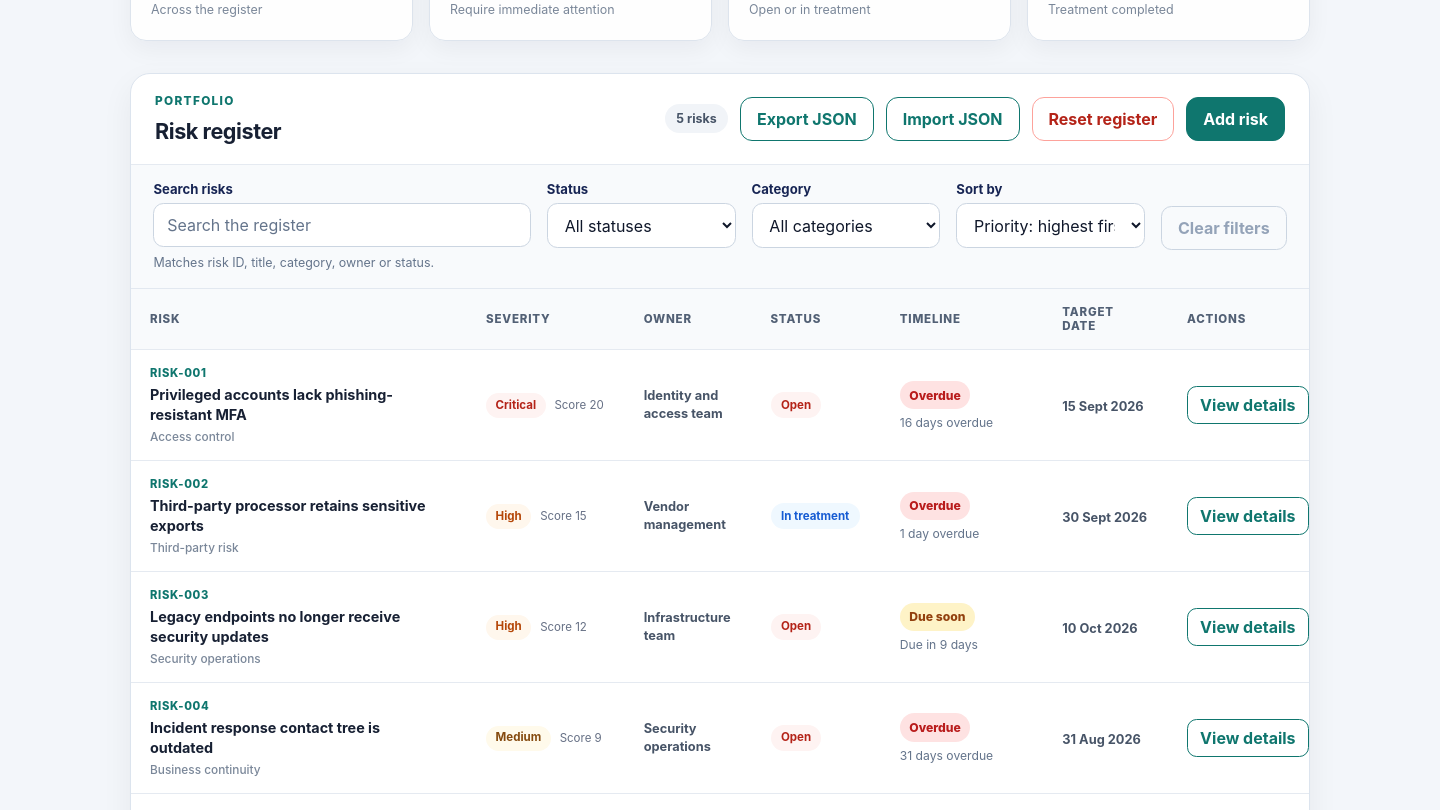
Test: App risk editing › edits, recalculates and persists a risk immutably
(page scrolled)
Click the button "View details" in the row of "Identity and access team".
click(1248, 405)  # box 1187,386 -> 1309,424
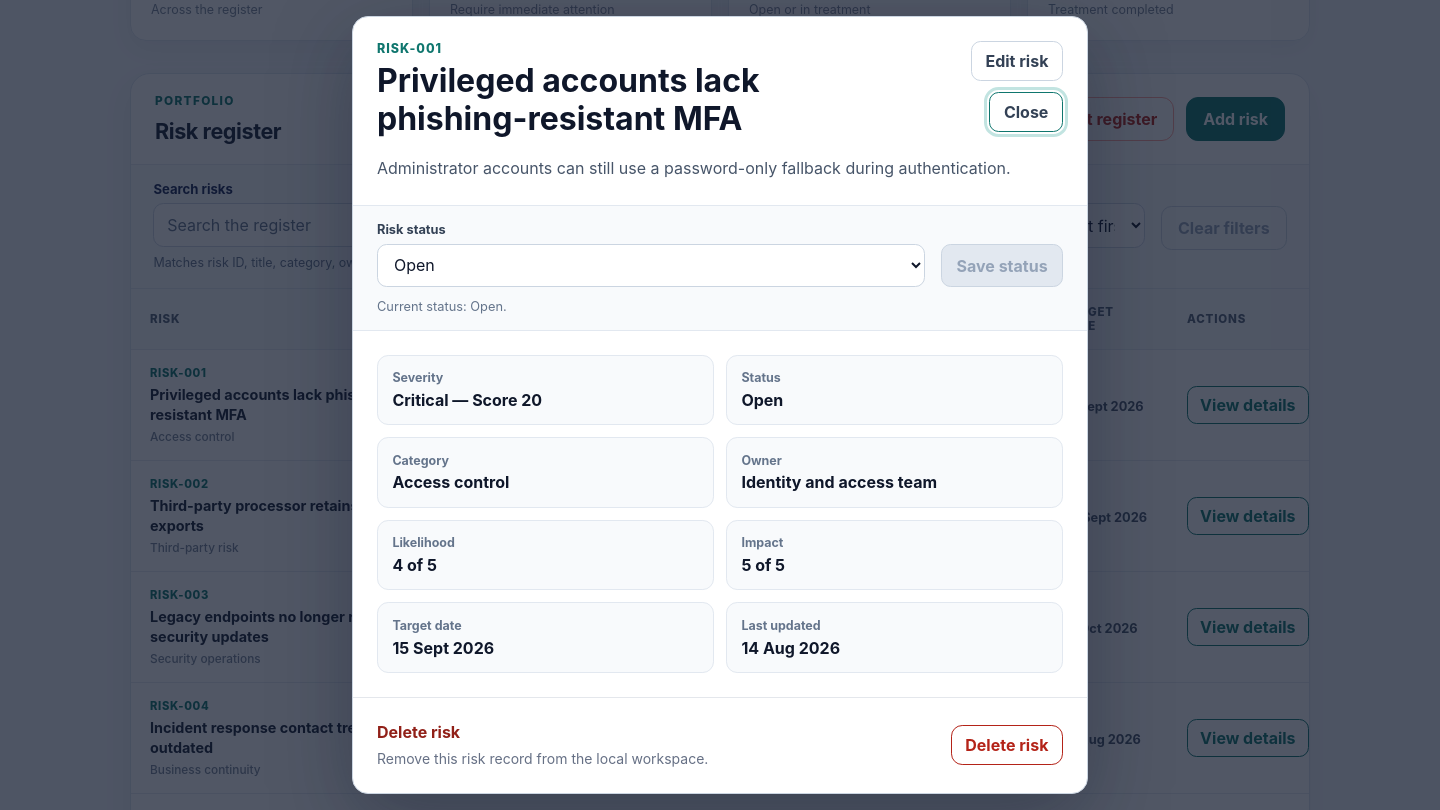
Click the button "Edit risk".
click(1017, 61)  # box 971,41 -> 1063,81
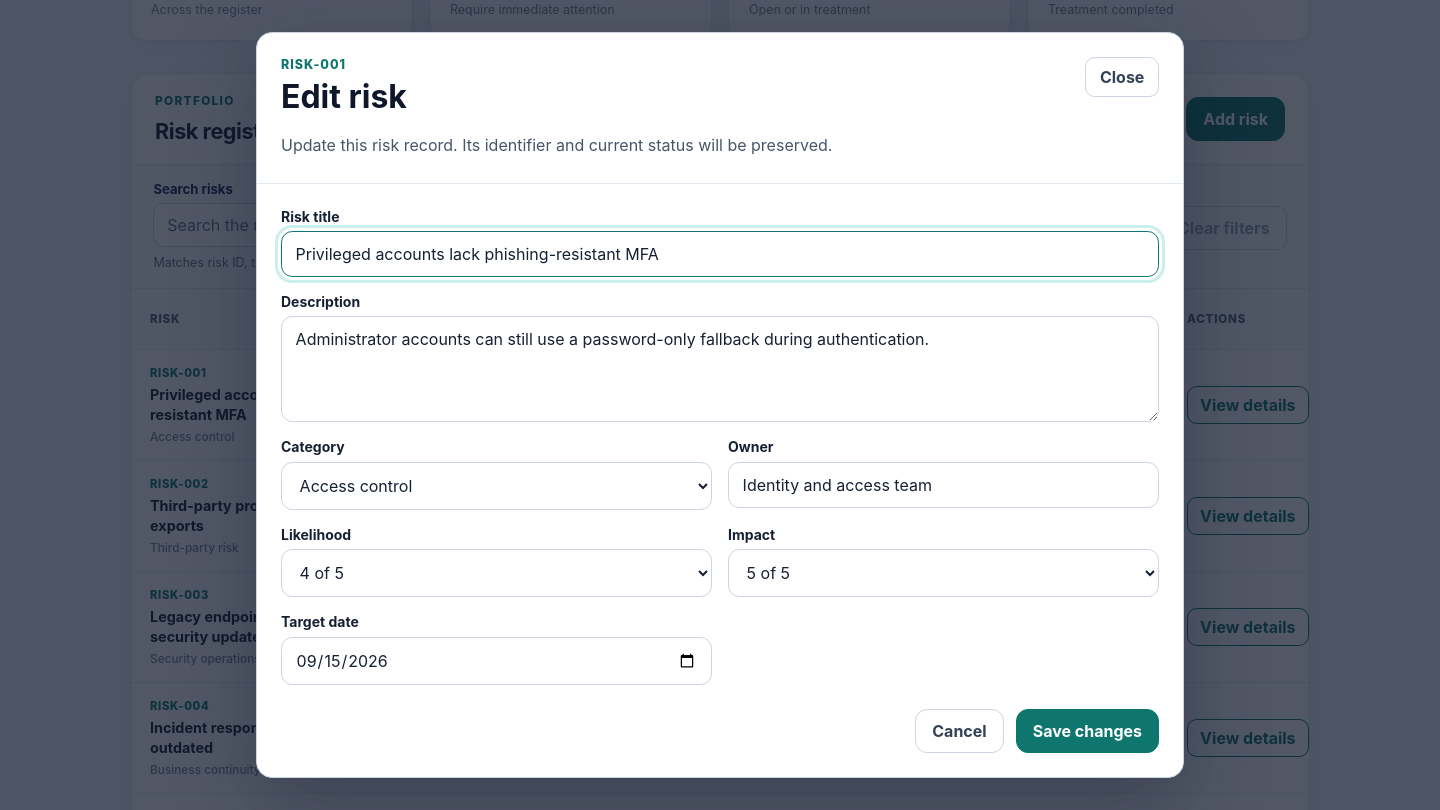
Expected: the field labelled "Risk title" holds "Privileged accounts lack phishing-resistant MFA"
Replace the text in the field labelled "Risk title" with "Privileged accounts require stronger authentication" at [720, 254], box 281,231 -> 1159,277
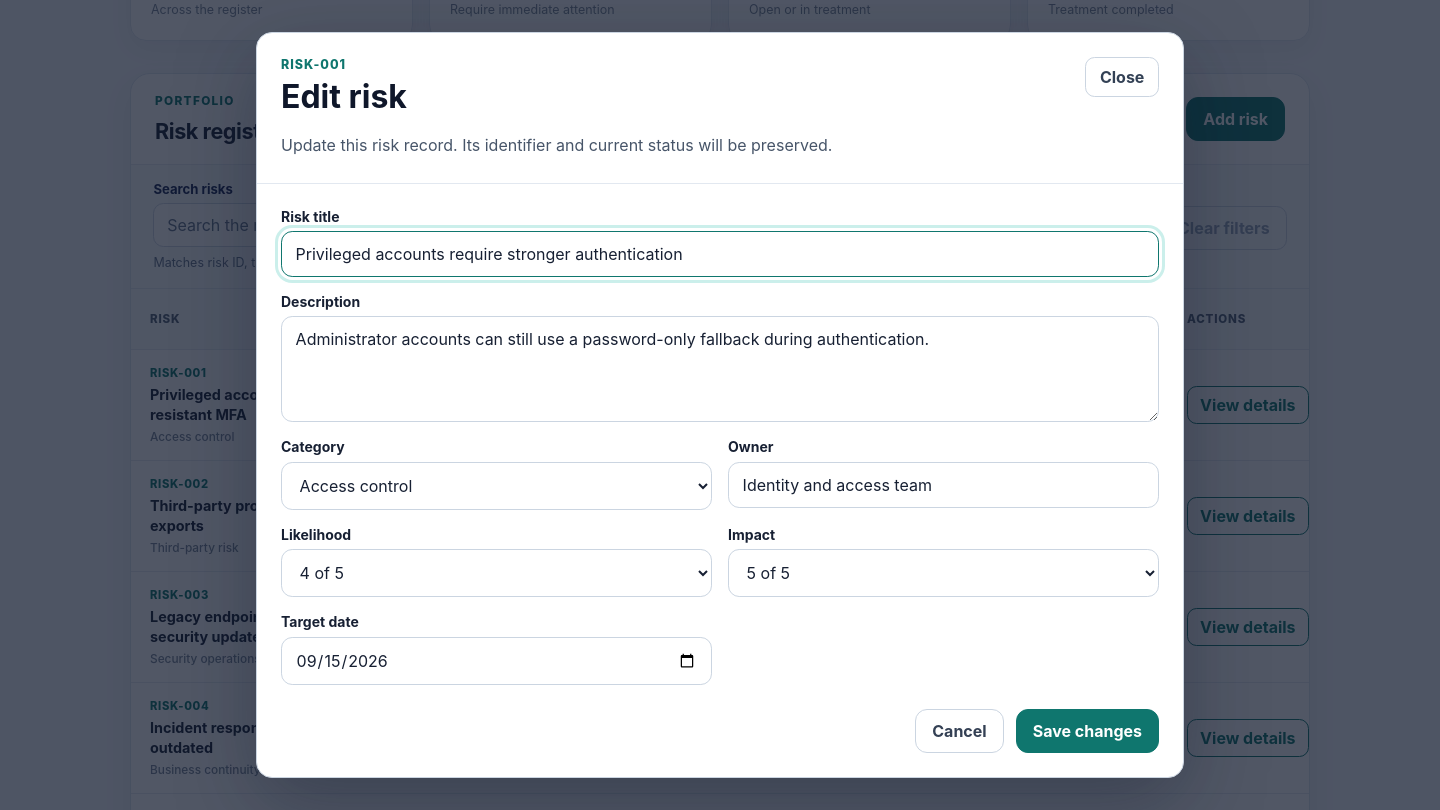
Replace the text in the field labelled "Owner" with "Identity governance team" at [944, 485], box 728,462 -> 1159,508
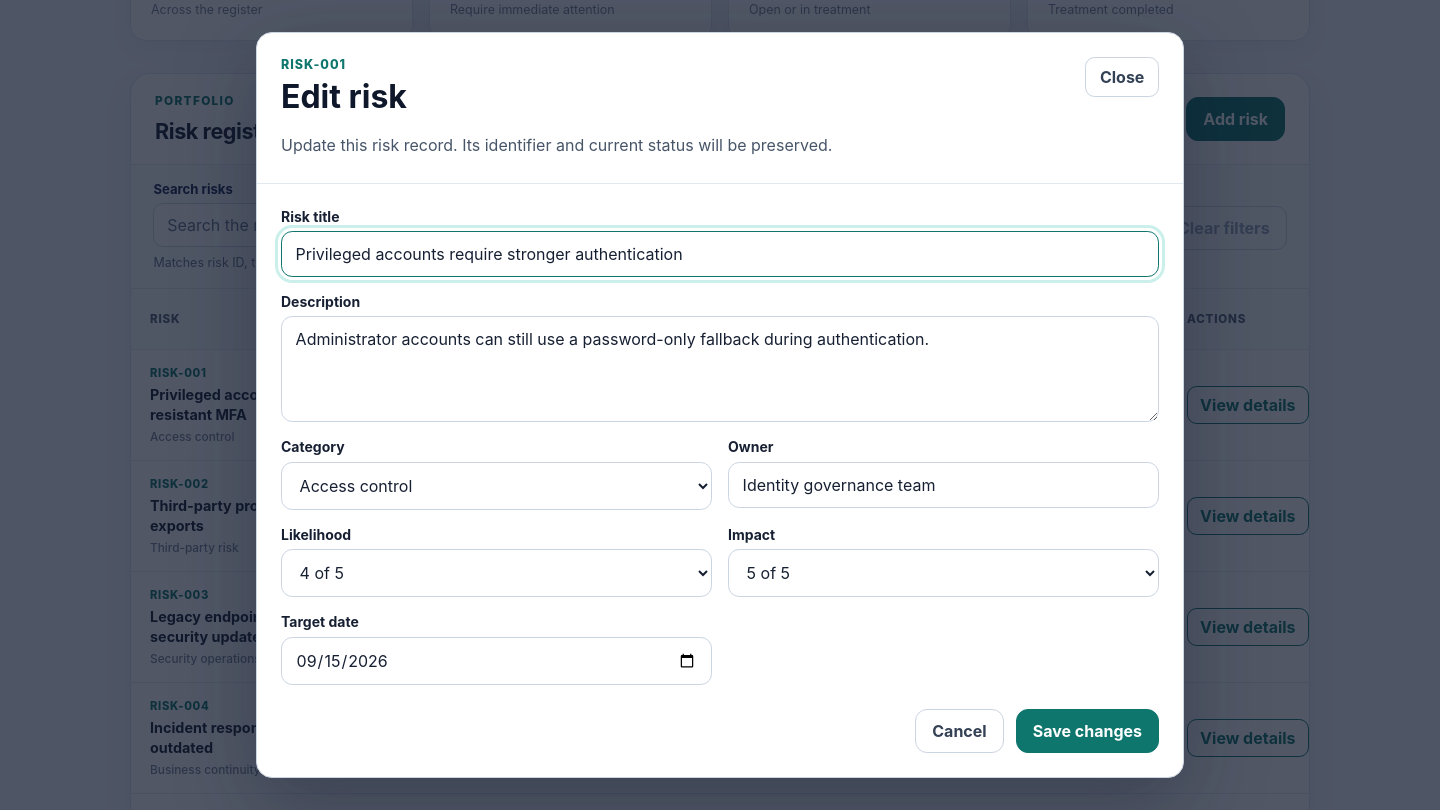
Select "3 of 5" in the dropdown labelled "Likelihood" at [496, 573], box 281,549 -> 712,597
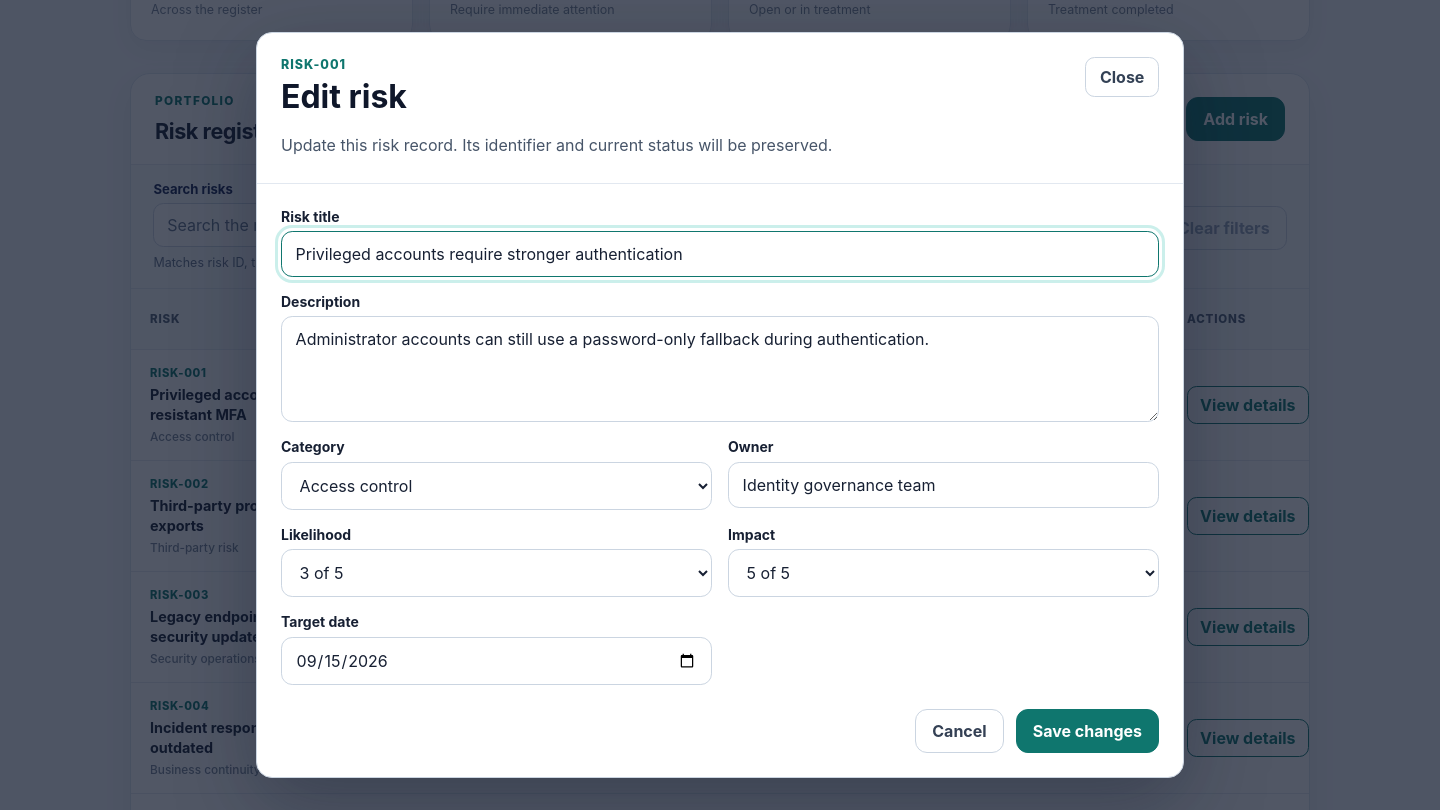
Click the button "Save changes".
click(1087, 731)  # box 1016,709 -> 1159,753
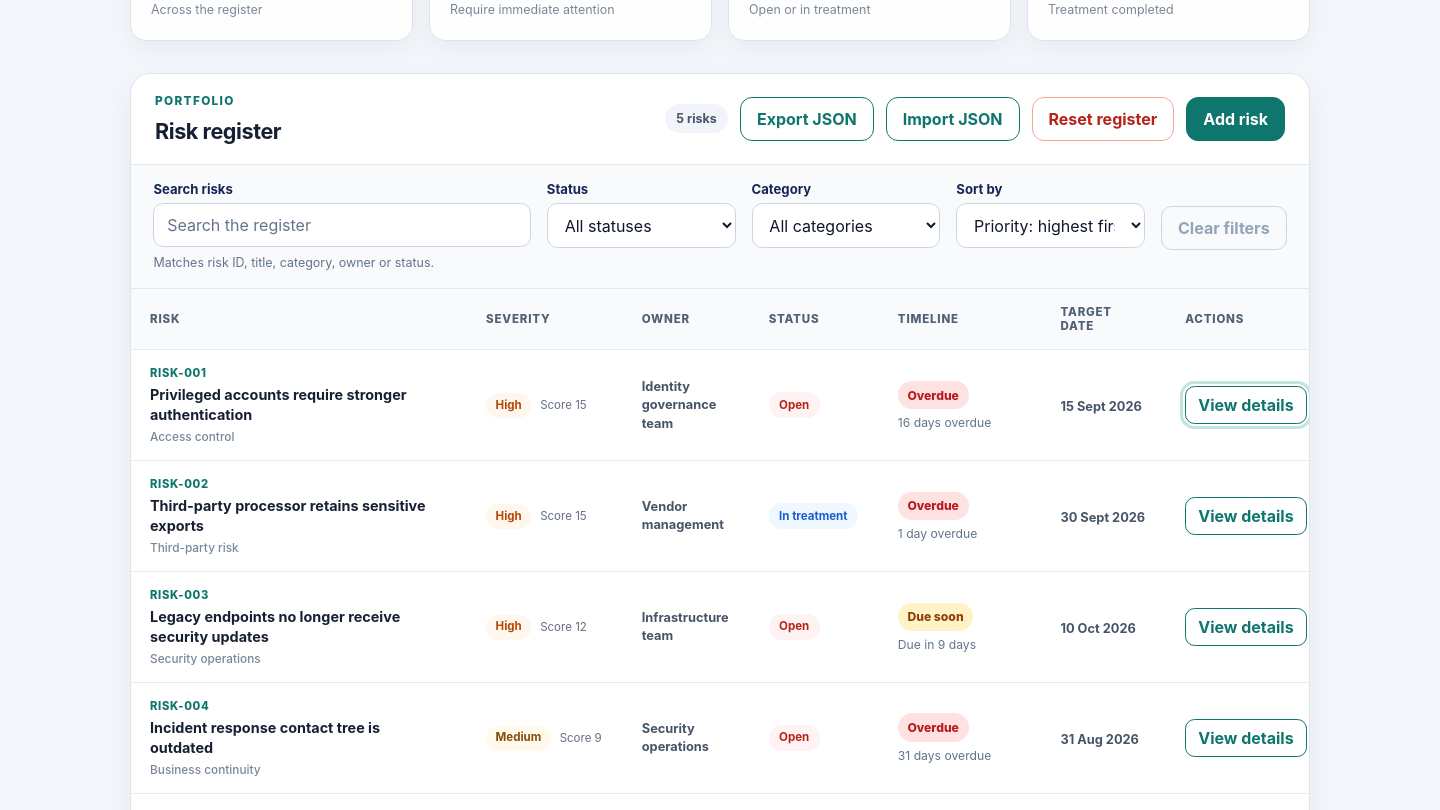
Expected: the heading "Edit risk" is gone
Expected: the text "Privileged accounts require stronger authentication" is shown, 150,385 -> 446,426
Expected: the text "Identity governance team" is shown, 642,378 -> 729,433
